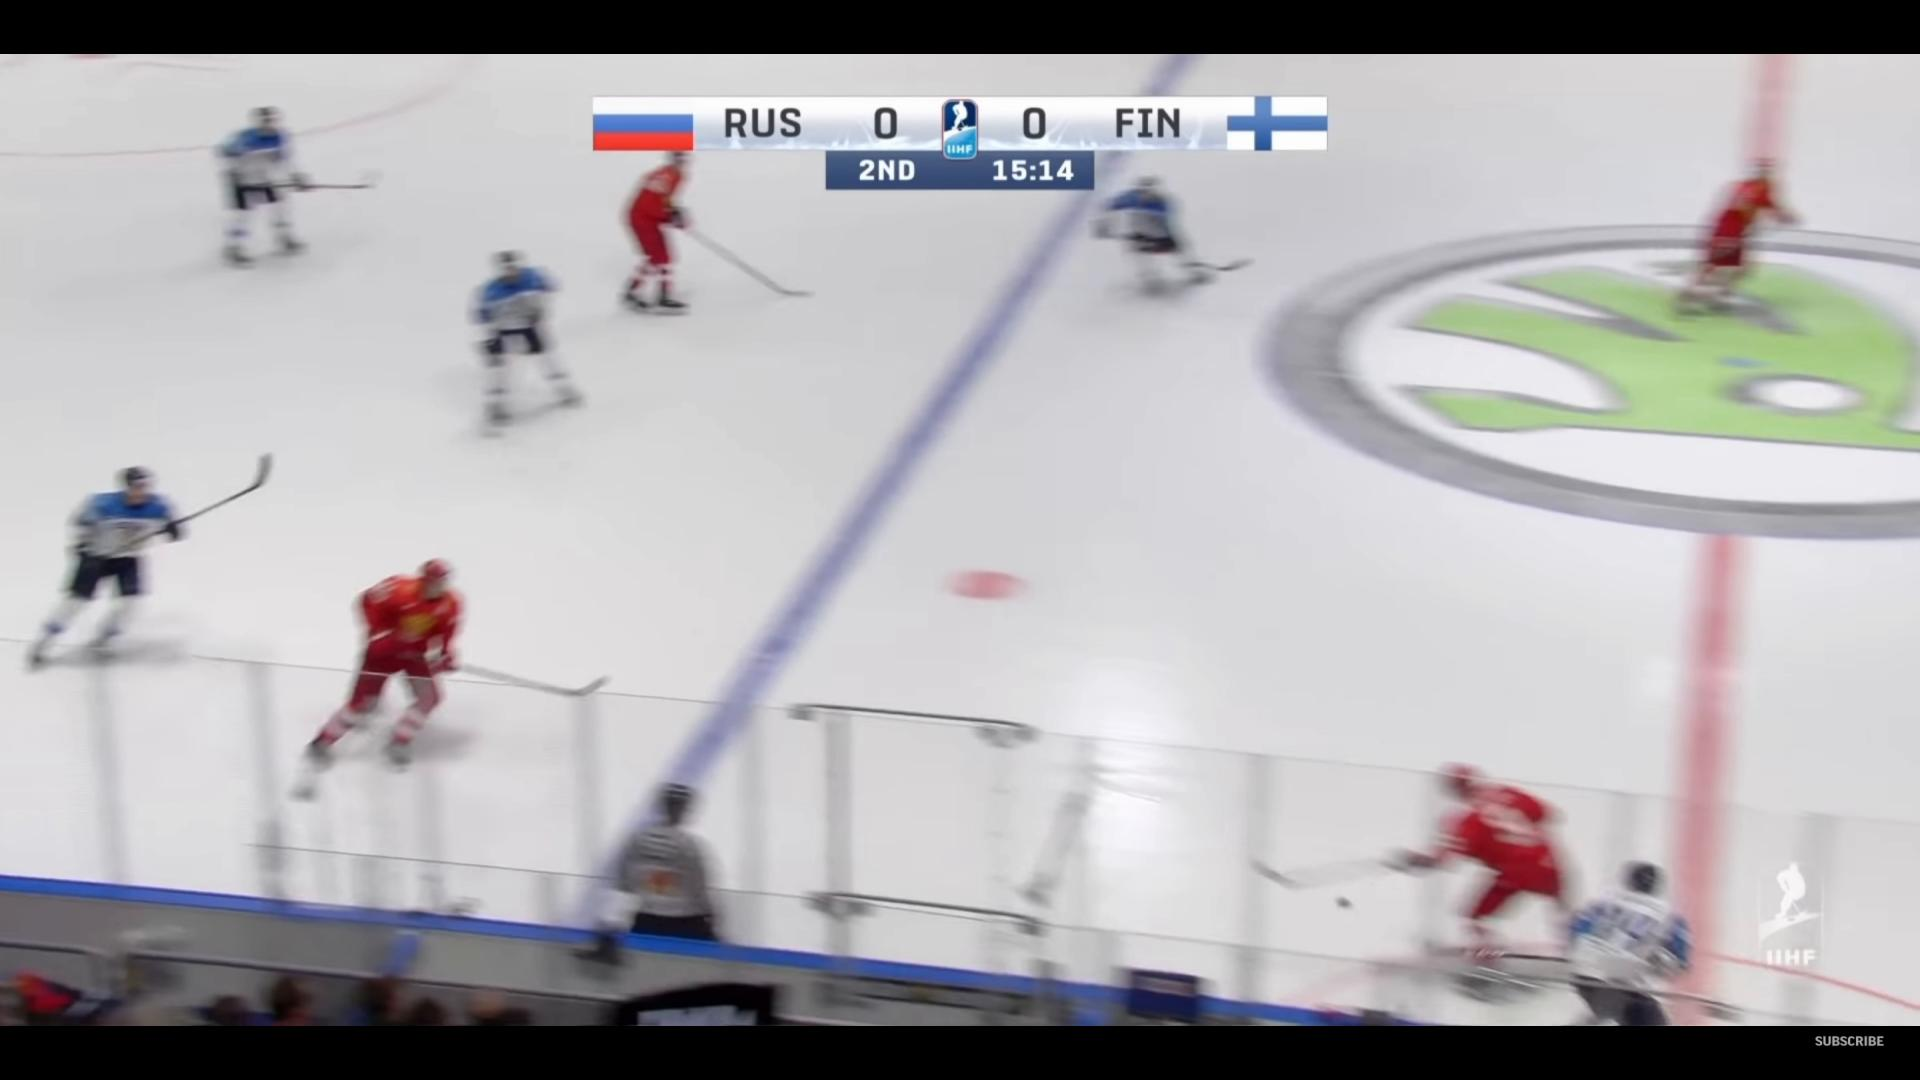puck: (1333, 895, 1353, 909)
